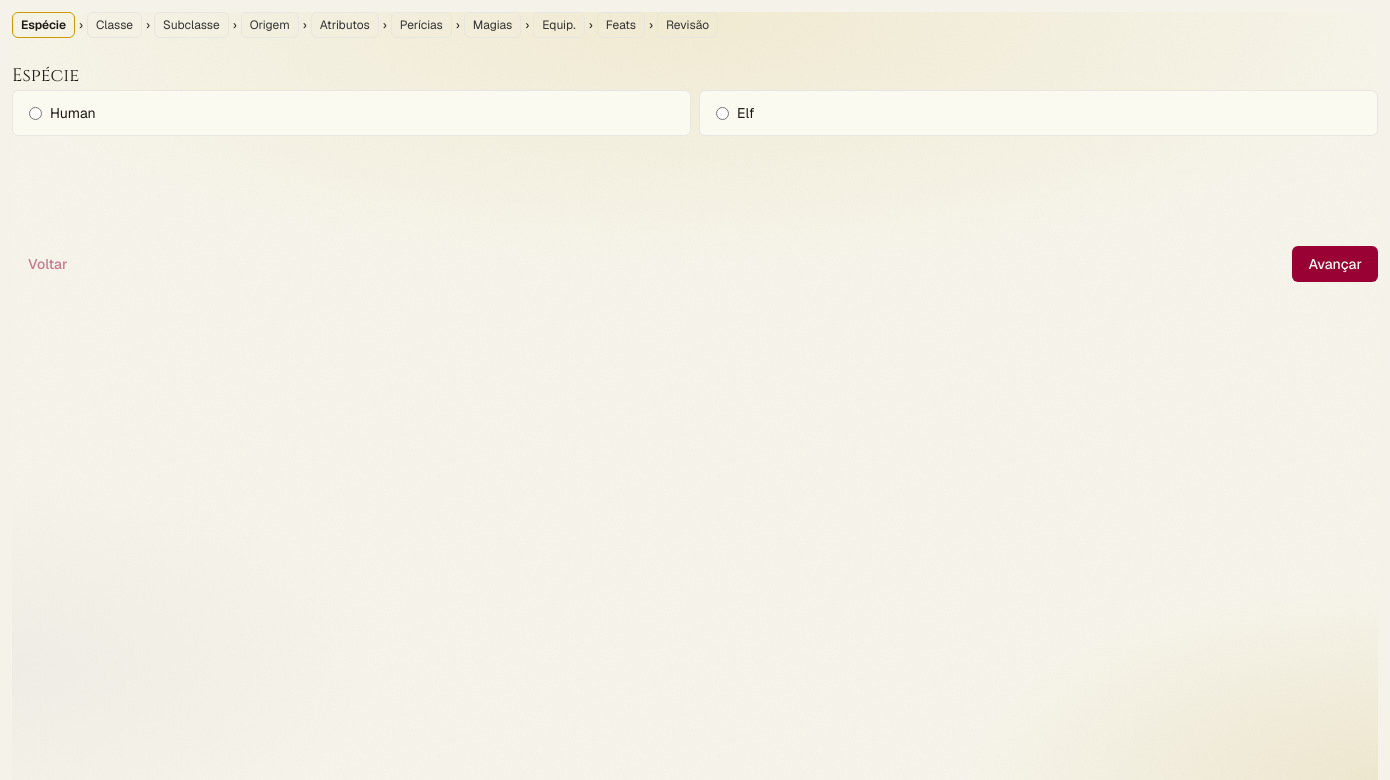
CharacterWizard — navegação › deve desabilitar Voltar na primeira etapa e manter a escolha ao voltar
Expected: the button "Voltar" is disabled, x1=12 y1=246 x2=84 y2=282
Step 1. Click the radio button labelled "Human" → coordinates (36, 113), box x1=29 y1=106 x2=42 y2=120
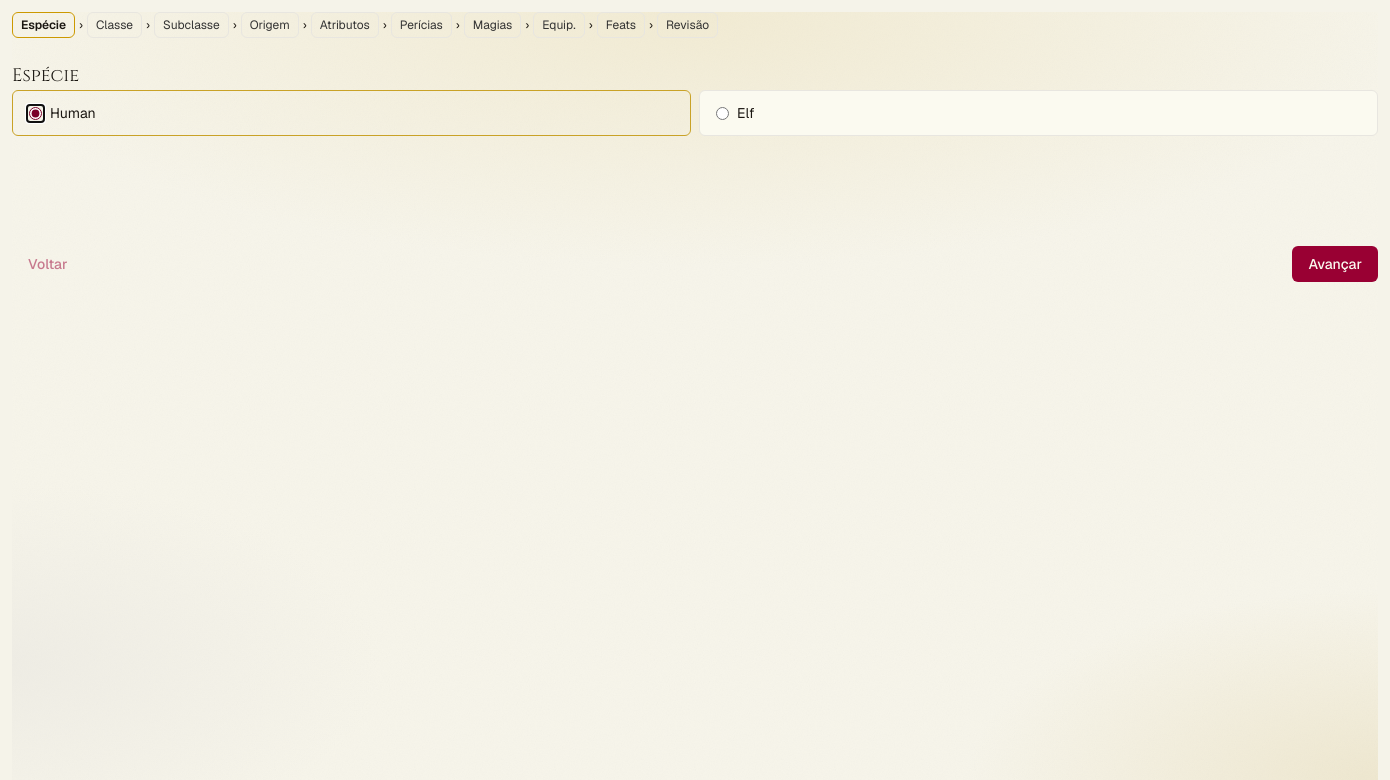
Step 2. Click the button "Avançar" → coordinates (1335, 264), box x1=1292 y1=246 x2=1378 y2=282
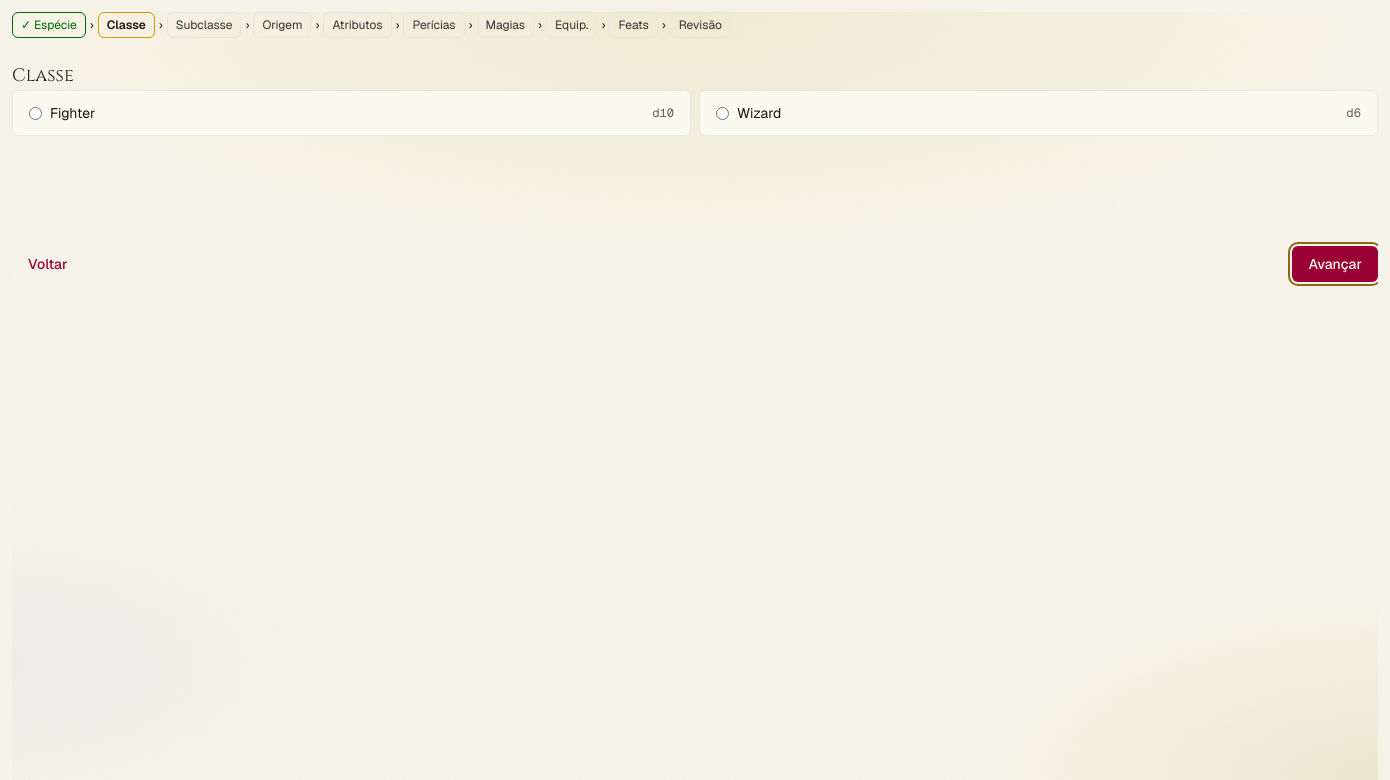
Step 3. Click the button "Voltar" → coordinates (48, 264), box x1=12 y1=246 x2=84 y2=282
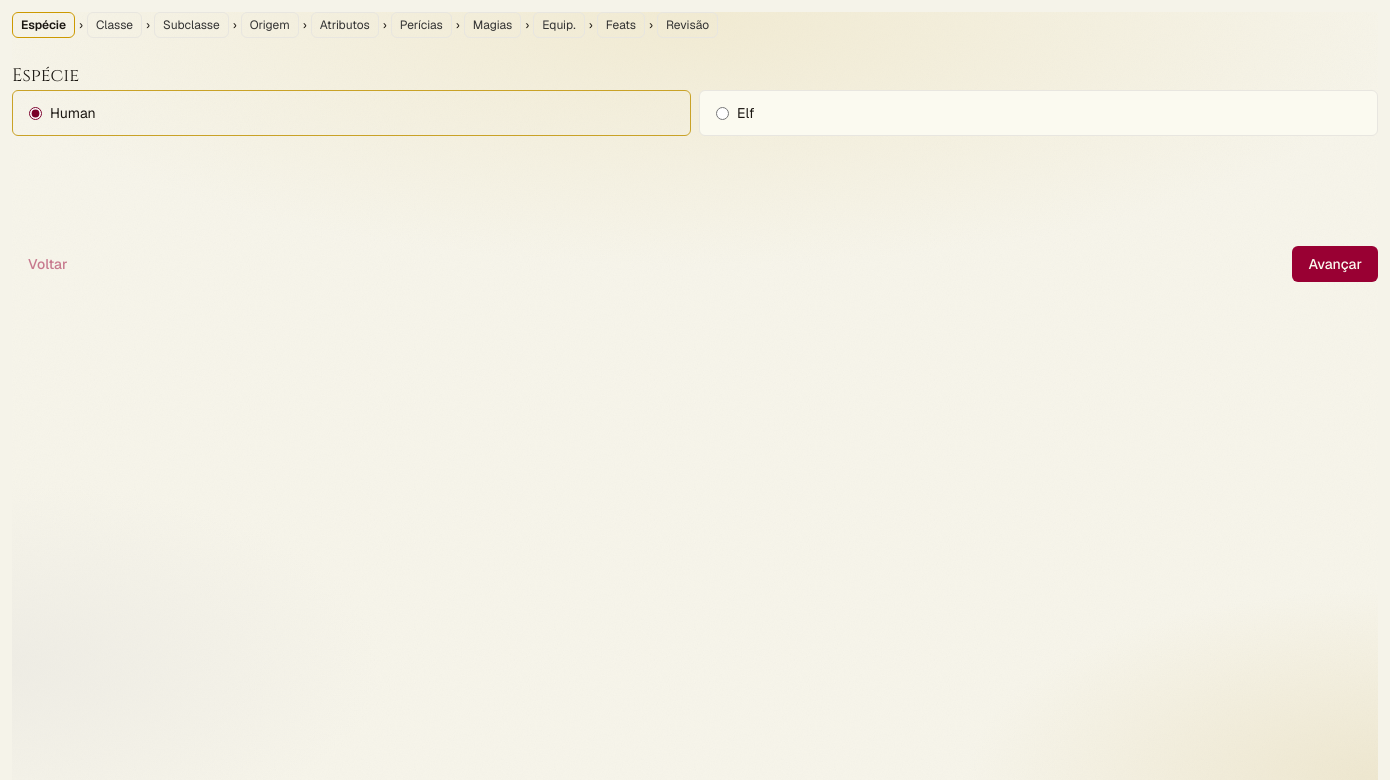
Expected: the text "Espécie" is shown, x1=12 y1=62 x2=79 y2=90
Expected: the radio button labelled "Human" is checked, x1=29 y1=106 x2=42 y2=120
